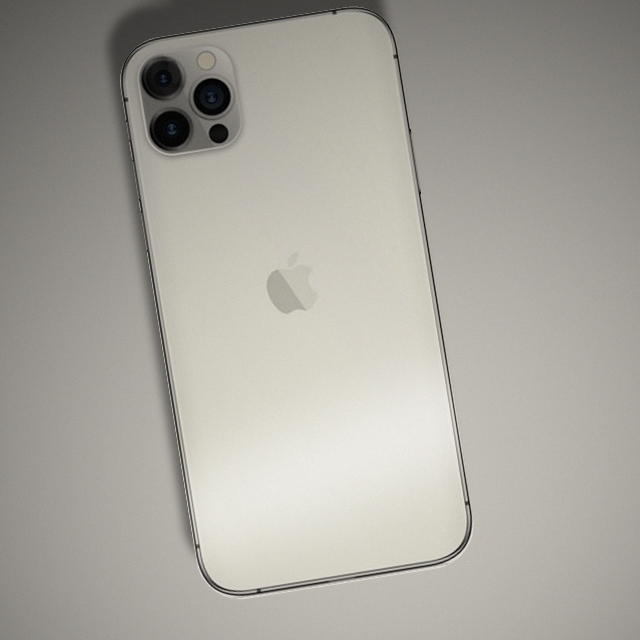iphone_12pro_silver: (94, 15, 495, 604), (119, 41, 255, 160)
